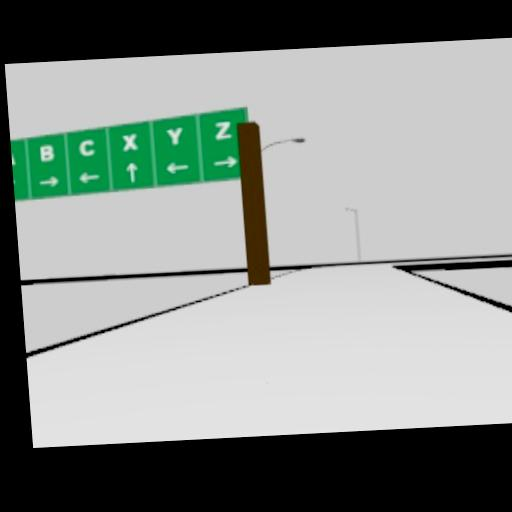A: (12, 148, 16, 165)
B: (39, 143, 54, 161)
C: (77, 137, 95, 155)
Left: (165, 161, 189, 174), (77, 171, 100, 184)
Right: (213, 154, 238, 168), (37, 176, 60, 187)
Straight: (124, 161, 138, 183)
X: (120, 133, 138, 150)
Y: (166, 127, 184, 144)
Z: (212, 120, 232, 138)
